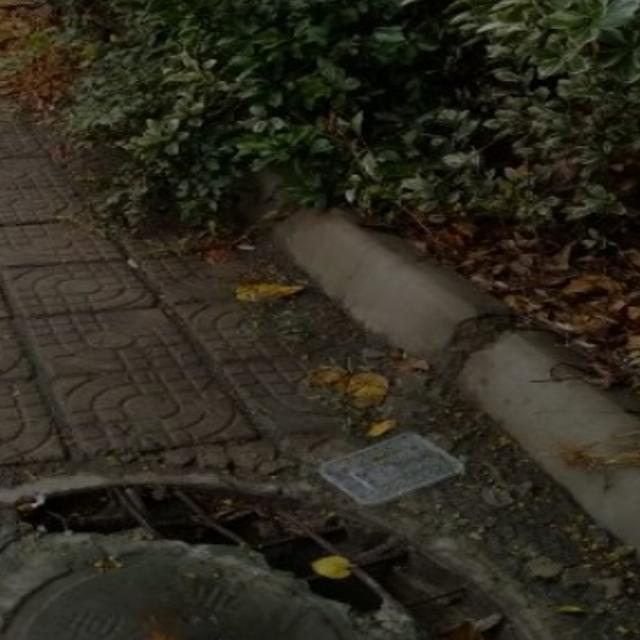broke: (0, 468, 563, 640)
